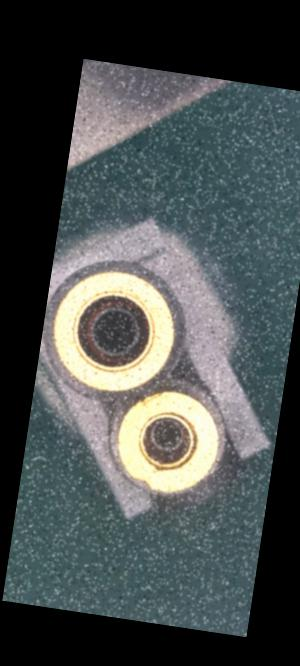bump: (136, 385, 168, 412), (131, 474, 156, 489)
